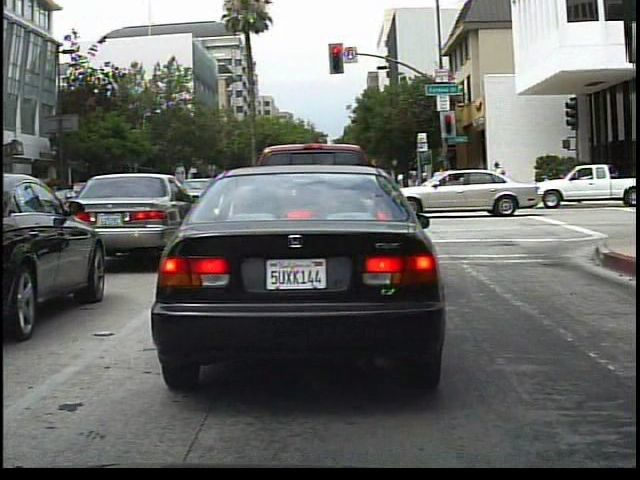person: (321, 161, 356, 219), (490, 157, 510, 197), (470, 158, 488, 200)
